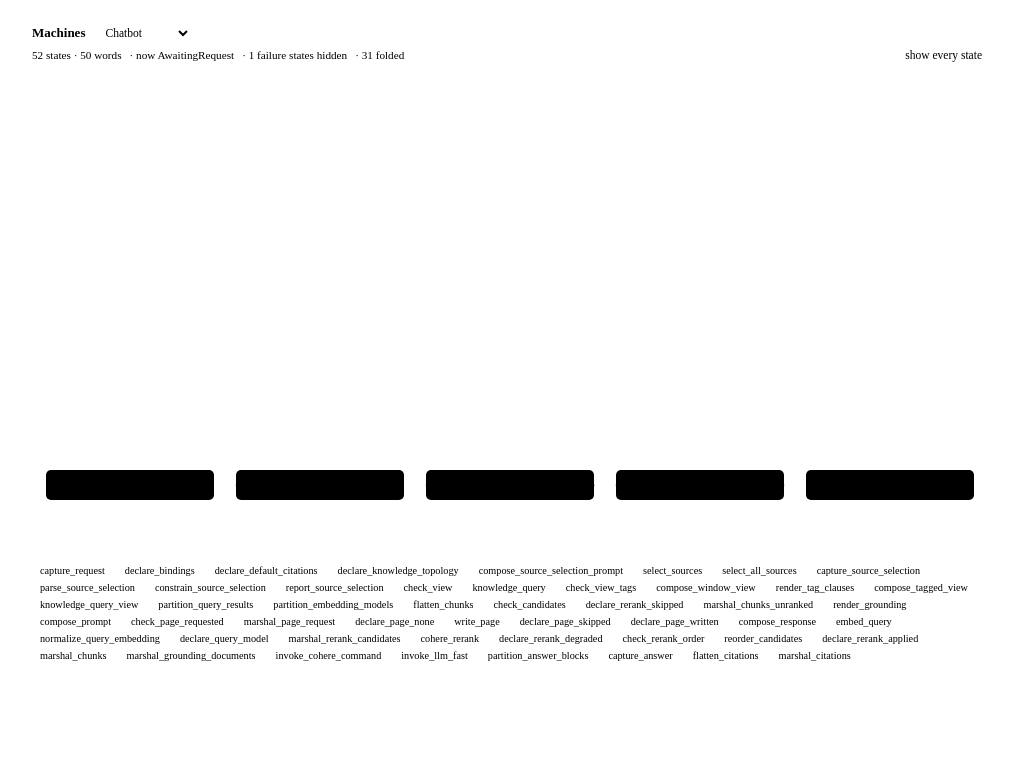
Test: machine view panel › folds the recorded request machine and unfolds it on demand
The width and height of the screenshot is (1036, 768).
Expected: the text "· 31 folded" is shown, [355, 49, 404, 61]
Click the button with test id "machine-toggle": coordinates (944, 55) [895, 48, 992, 62]
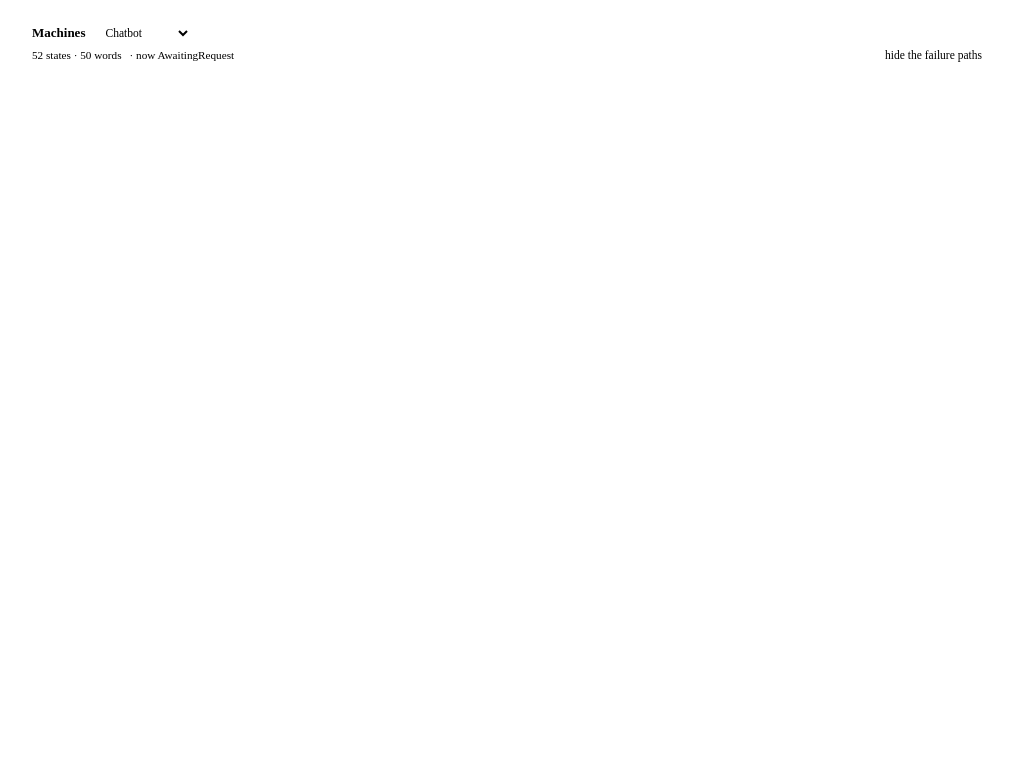
Result: the button with test id "machine-toggle" reads "hide the failure paths" at [875, 48, 992, 62]
